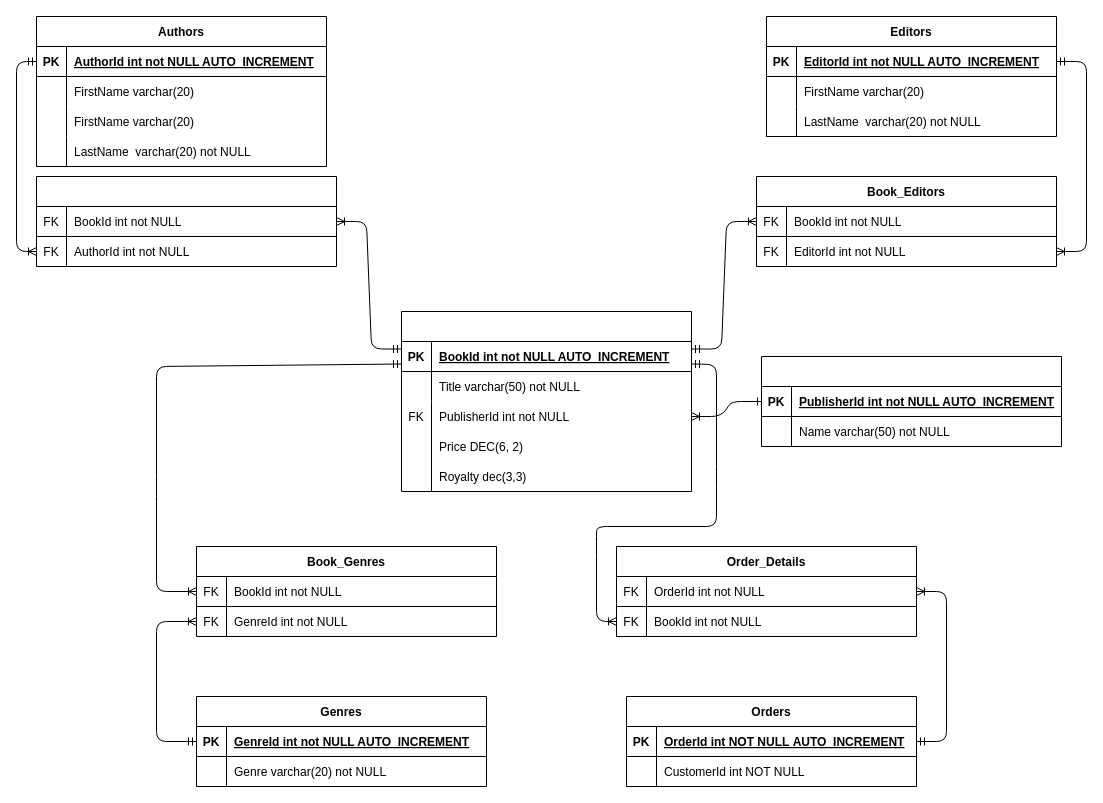
Image size: 1103x803. Some labels were removed from this diagram. The box of each missing label's shape, as (x1, y1, x2, y2) in pixels:
Book_Authors: (36, 176, 336, 266)
Books: (400, 310, 692, 492)
Publishers: (760, 356, 1062, 446)
